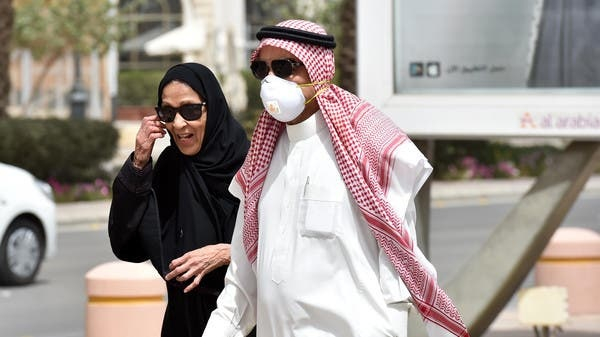with_mask: (250, 41, 326, 123)
without_mask: (150, 77, 219, 158)
